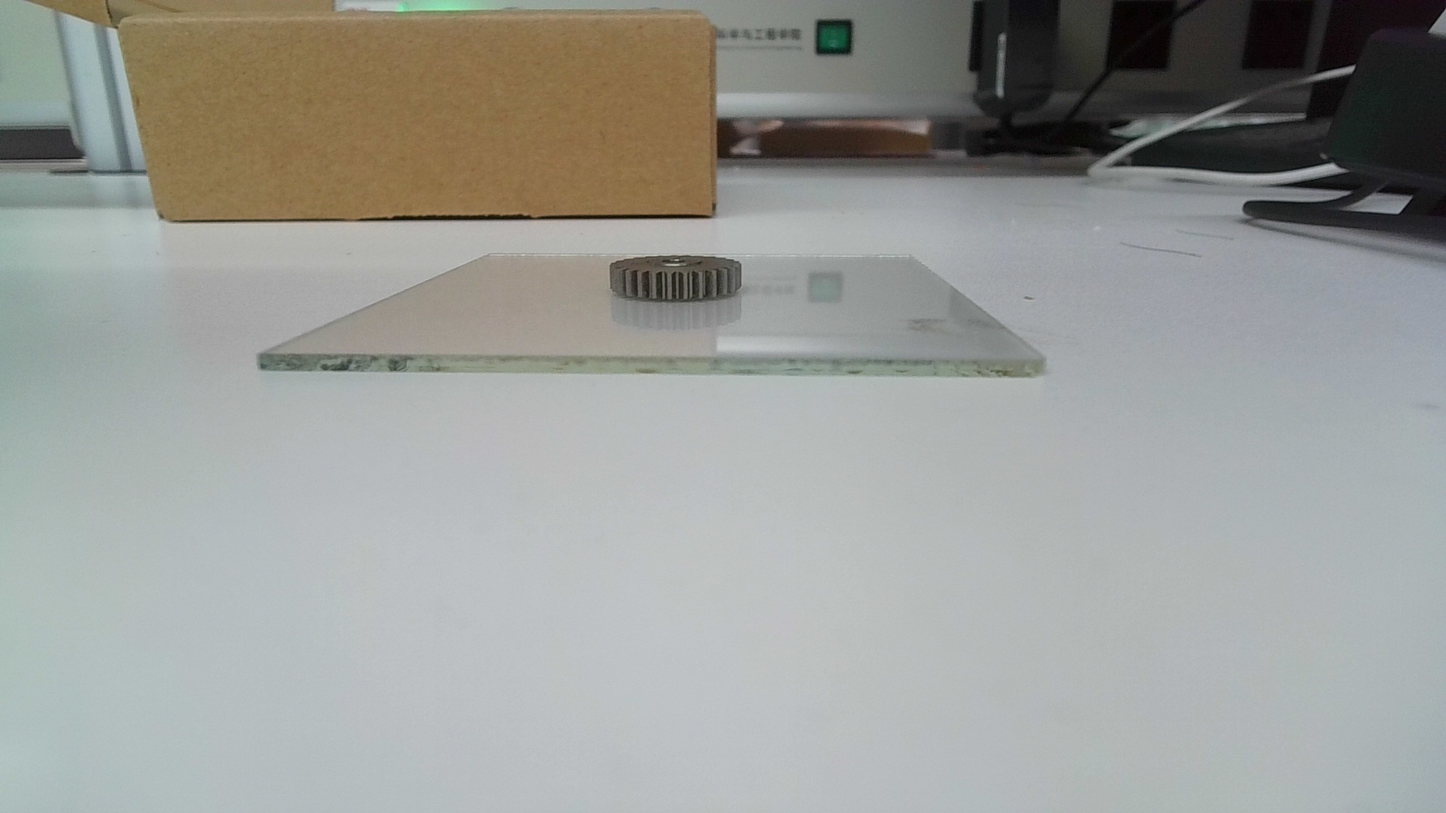gear: (607, 253, 747, 303)
